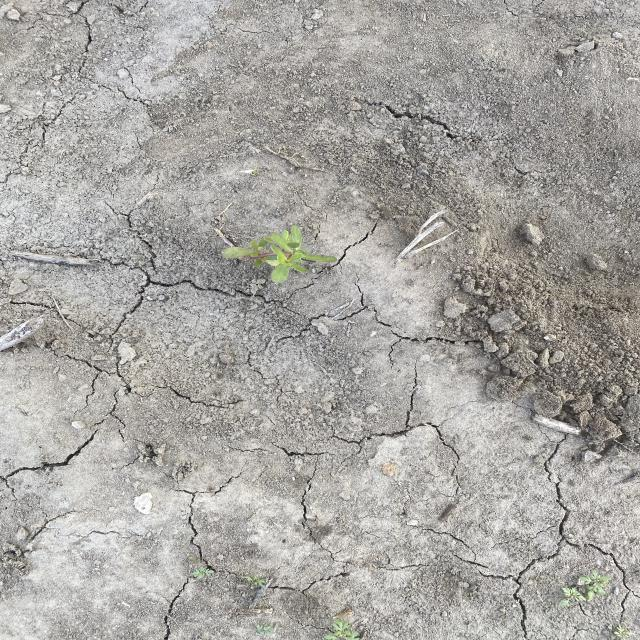Purslane: (219, 224, 340, 285)
